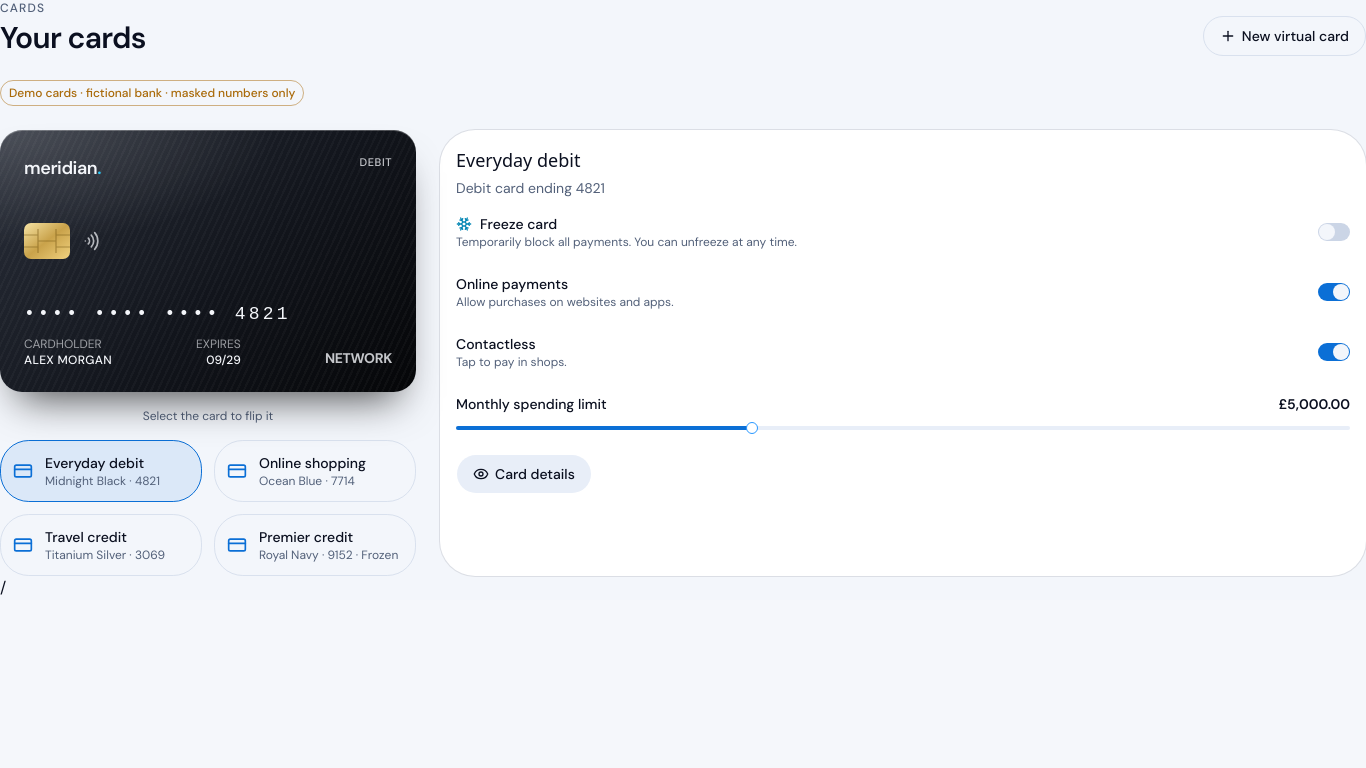
Test: CardsPage › labels the cards as demo data and masks details in the dialog
Expected: the text "Demo cards · fictional bank · masked numbers only" is shown, [0,80,304,106]
Click the button "Card details" at (524, 474), box [456,454,592,494]
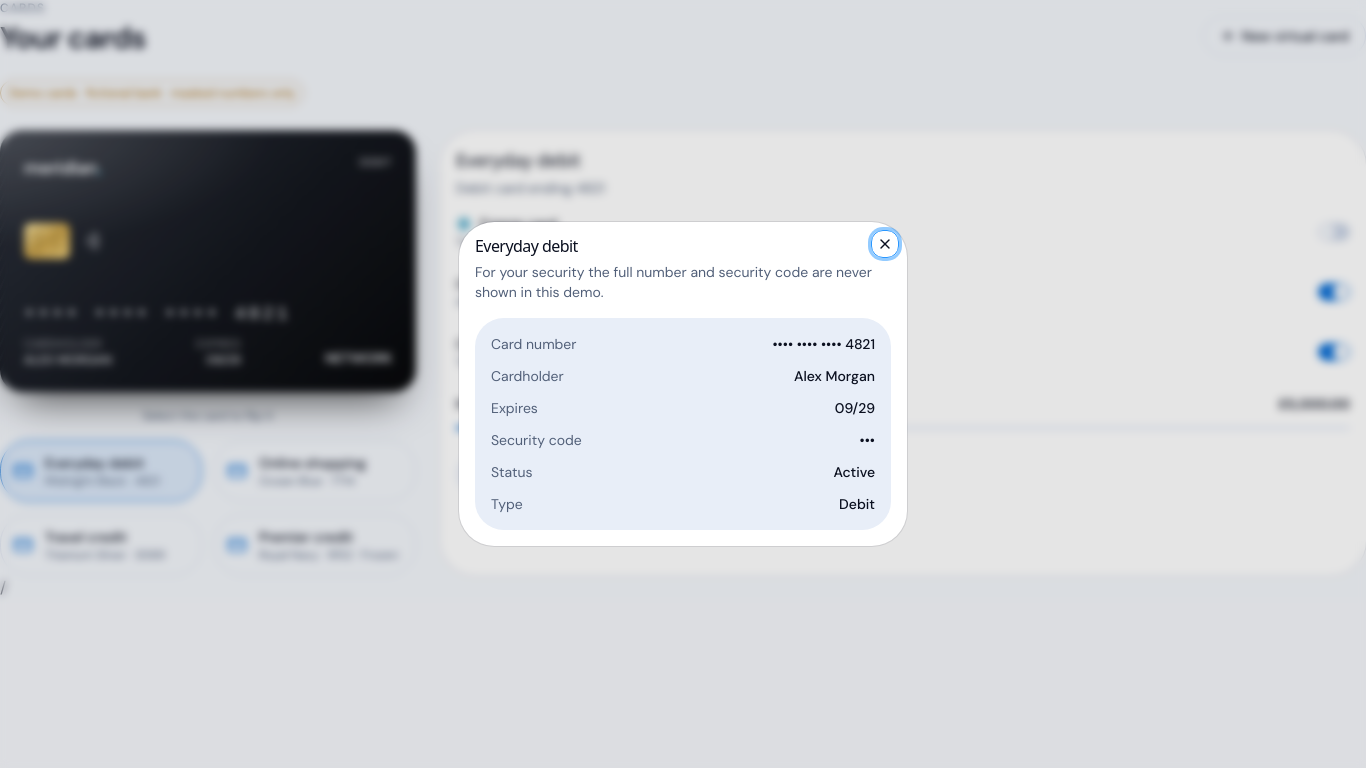
Now the dialog shows "•••• •••• •••• 4821", box [772,335,875,353]
